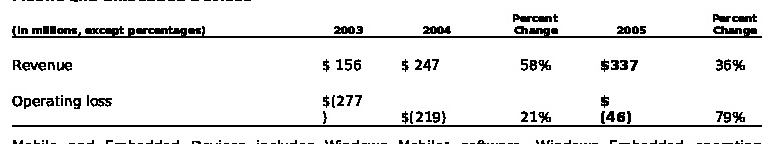table: (0, 0, 775, 144)
